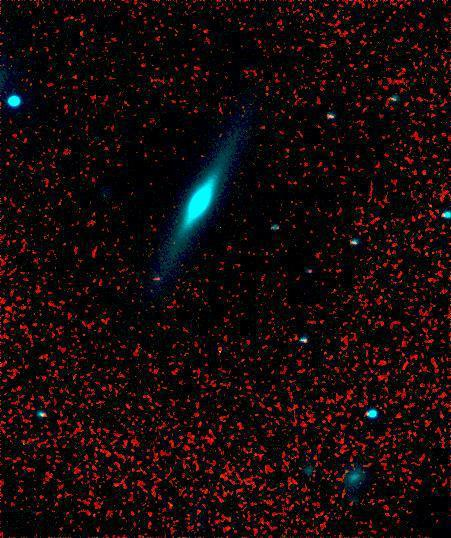star: (199, 214, 229, 244)
